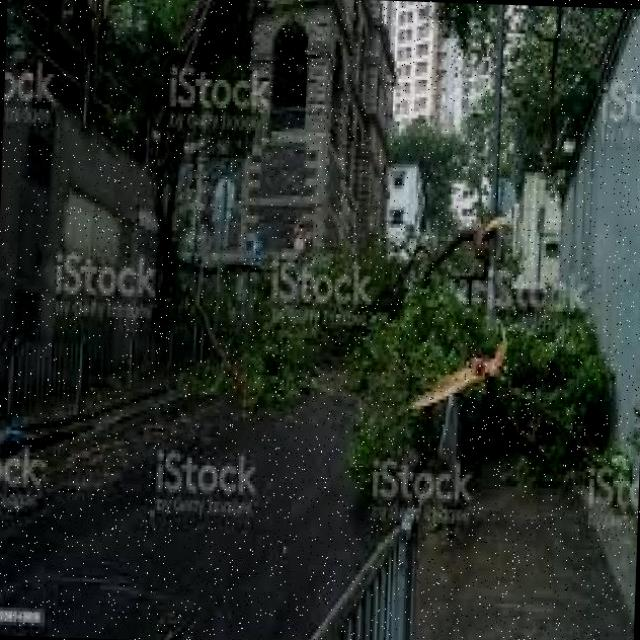fallen_object: (350, 210, 598, 488)
